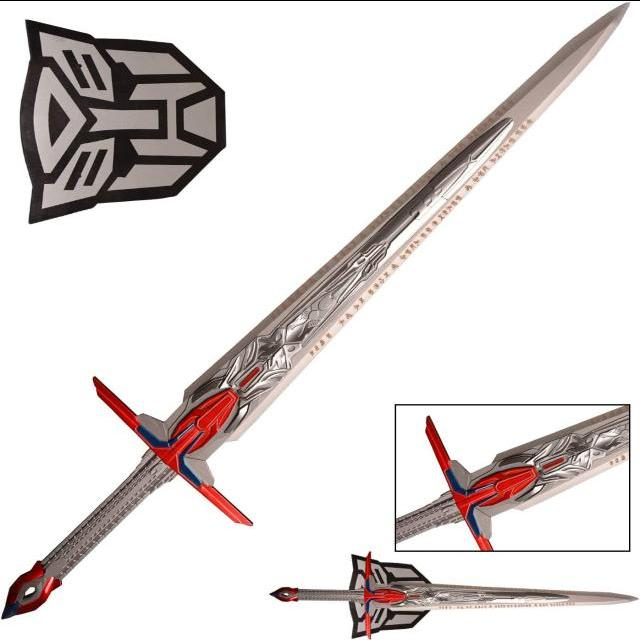sword: (1, 1, 635, 622), (256, 543, 638, 637)
